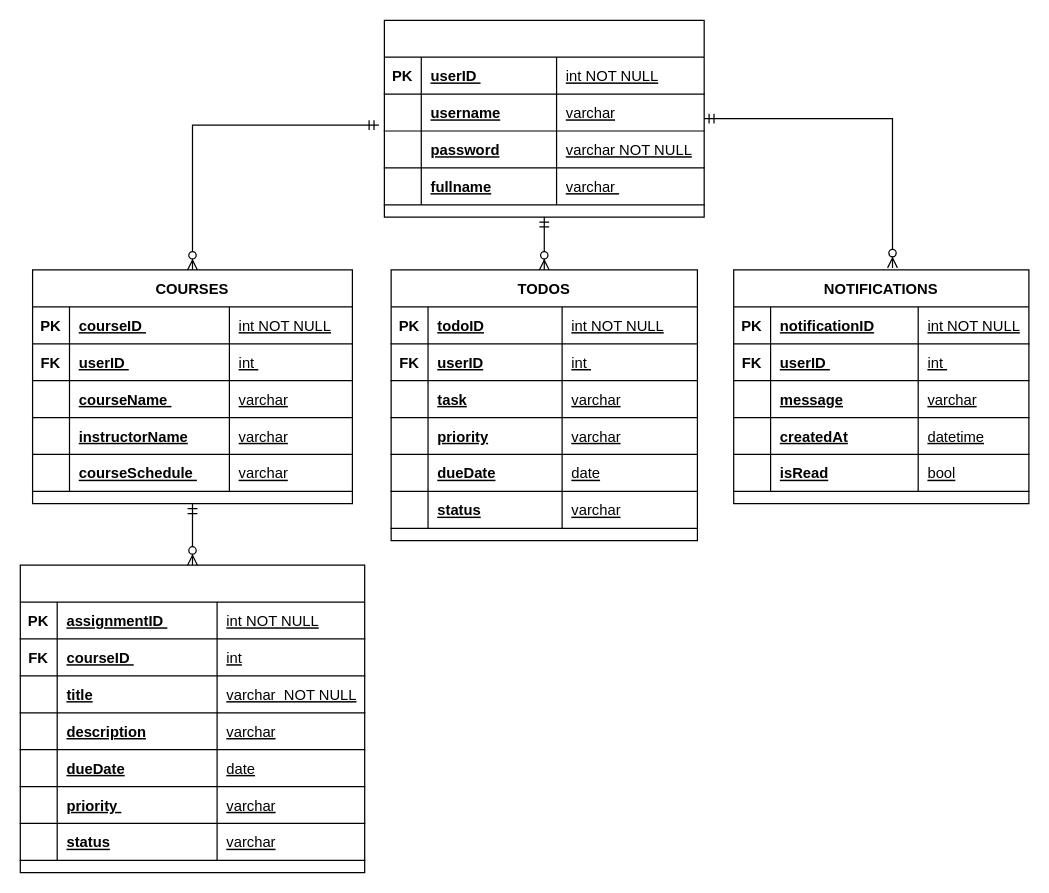
The diagram is 1049 pixels wide and 893 high, and some of its shapes have lost their labels. Each missing label, with the box of its shape:
ASSIGNMENTS: (19, 564, 365, 873)
USERS: (383, 19, 704, 217)
